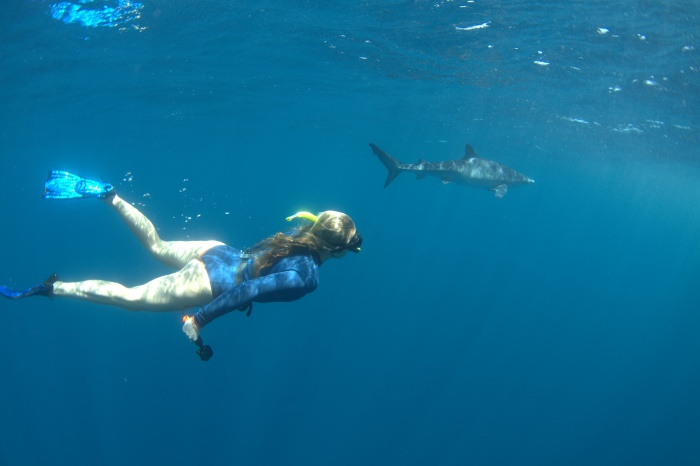Azul: (359, 129, 567, 207)
